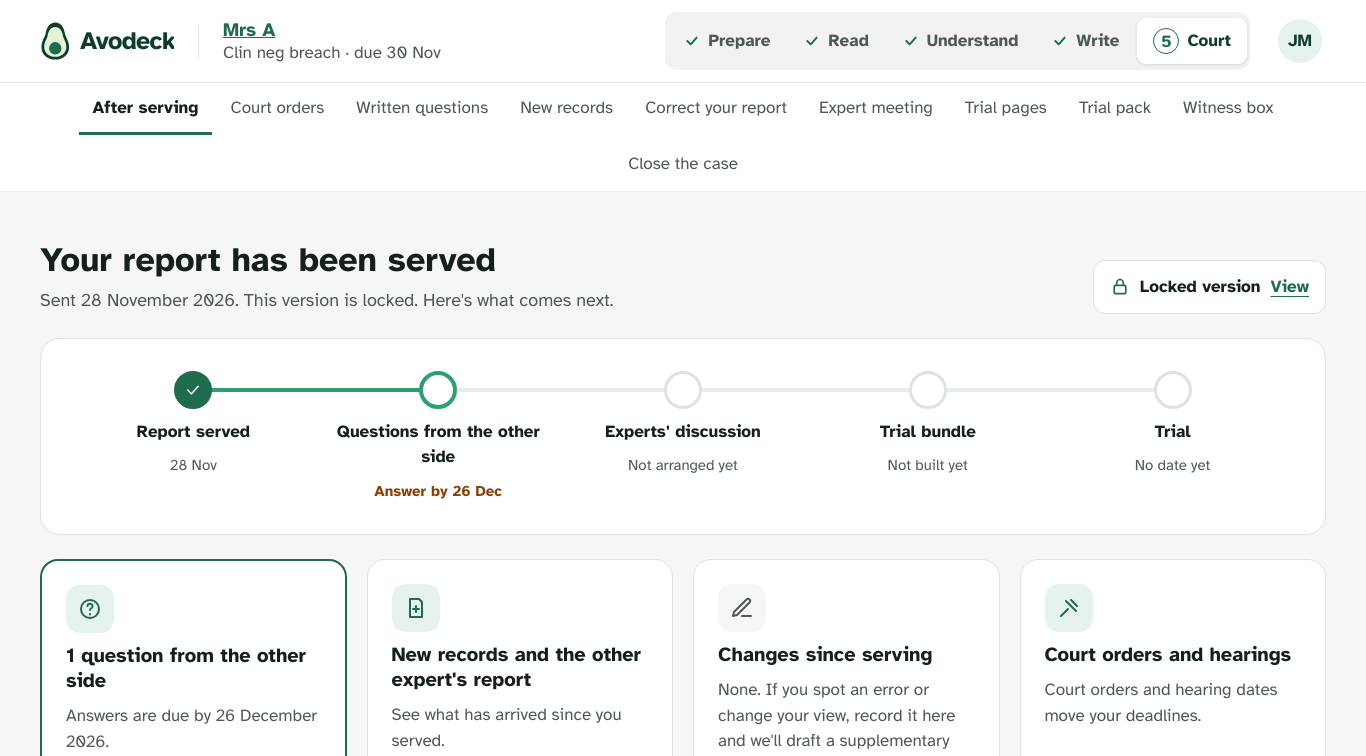
Test: the locked version sits in a pill at the top, with the paragraphs behind View
The width and height of the screenshot is (1366, 756).
Click the button "View" at [1290, 287], box left=1271, top=261, right=1309, bottom=313
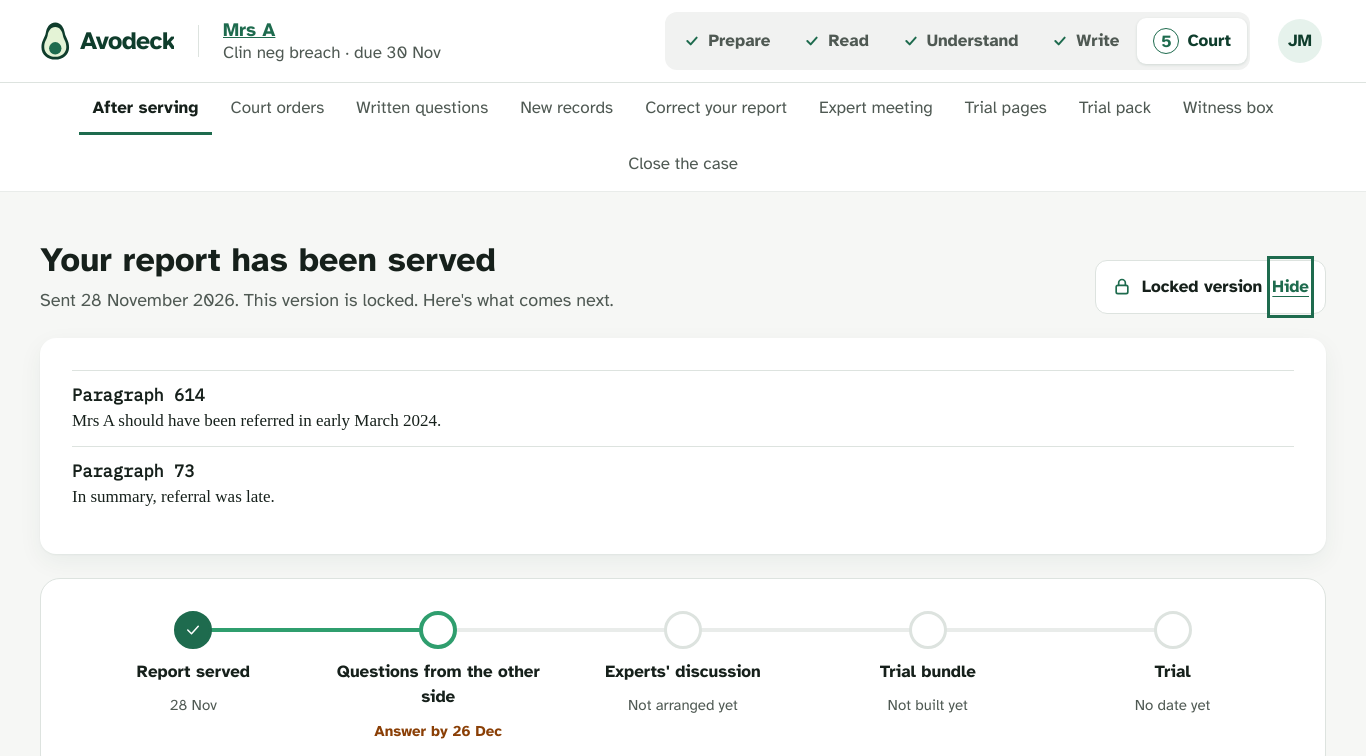
Check: the text "Mrs A should have been referred in early March 2024." is shown, box left=72, top=411, right=441, bottom=430
